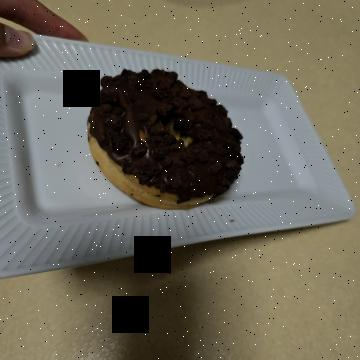doughnut: (55, 111, 222, 283)
